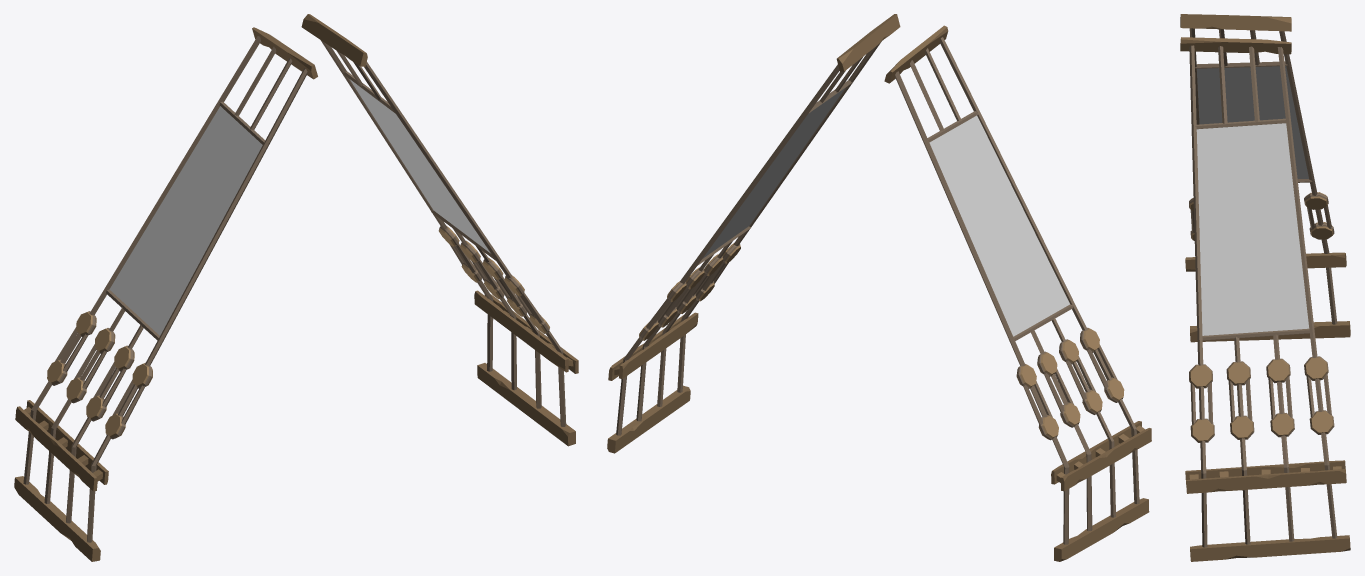
The model's file is SM_Veh_Ship_L_01_Ratlines_Back_02.fbx.
3 views of the same model, side by side, from view 1: azimuth 30°, elevation 25°; view 2: azimuth 150°, elevation 25°; view 3: azimuth 270°, elevation 25° (orthographic). The views are drawn at different scales.
Parts seen in each view (by area): view 1: SM_Veh_Ship_L_01_Ratlines_Back_02; view 2: SM_Veh_Ship_L_01_Ratlines_Back_02; view 3: SM_Veh_Ship_L_01_Ratlines_Back_02.
Boxes of the visible parts, bbox=[...] form: SM_Veh_Ship_L_01_Ratlines_Back_02: bbox=[14, 14, 578, 561]; SM_Veh_Ship_L_01_Ratlines_Back_02: bbox=[607, 14, 1151, 561]; SM_Veh_Ship_L_01_Ratlines_Back_02: bbox=[1180, 14, 1350, 561].
Bounding box in the file's own units: 960 × 847 × 308.
